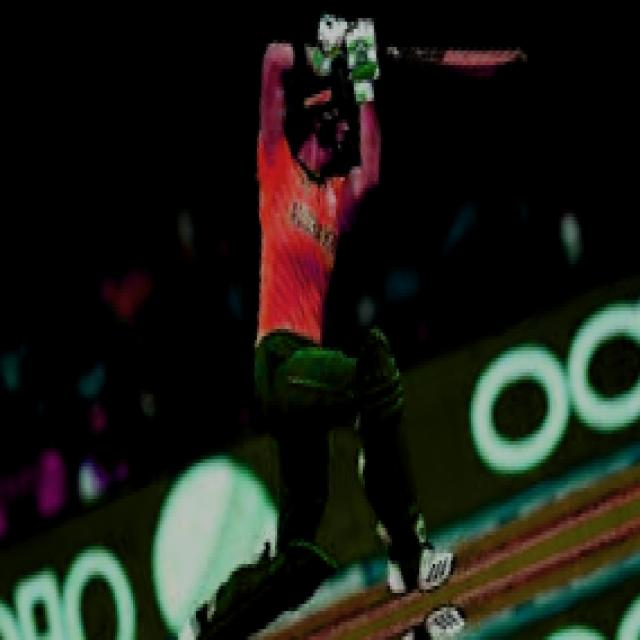toe: (488, 28, 532, 78)
